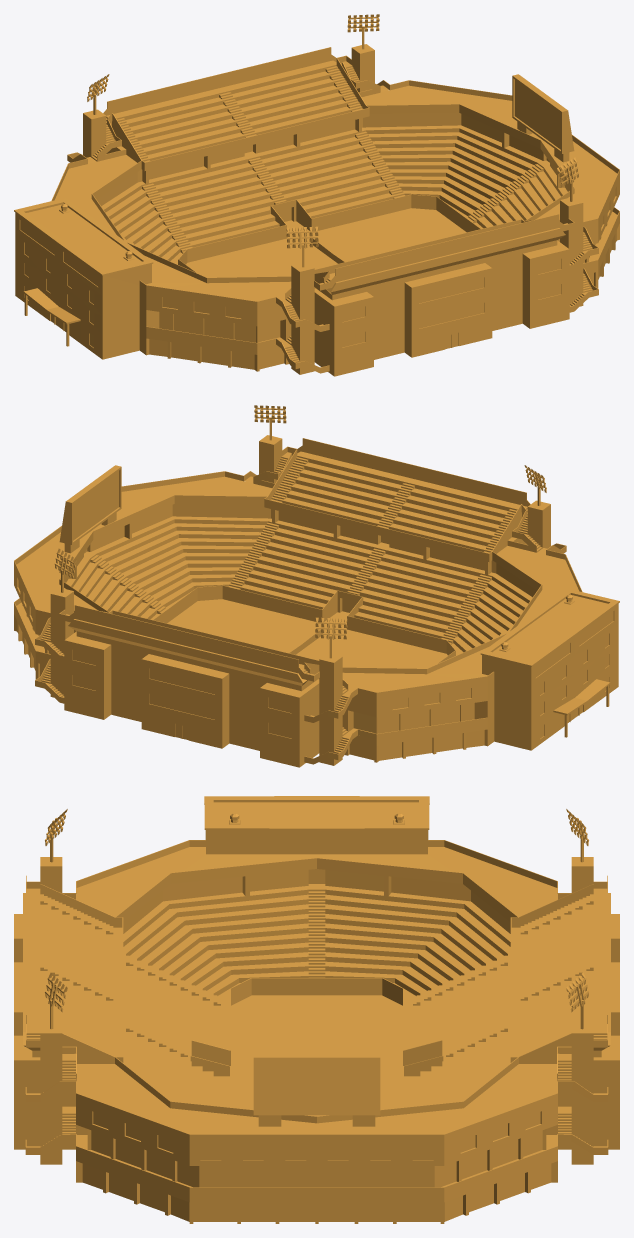
File: building-stadium.glb
The picture shows the model from 3 angles, top to bottom: view 1: azimuth 30°, elevation 25°; view 2: azimuth 150°, elevation 25°; view 3: azimuth 270°, elevation 25°; orthographic projection. The views are drawn at different scales.
Parts seen in each view (by area): view 1: building-stadium; view 2: building-stadium; view 3: building-stadium.
Boxes of the visible parts, x1,y1,x2,y2 form: building-stadium: (14,14,619,376); building-stadium: (14,405,619,767); building-stadium: (14,796,619,1223).
Size of the model in its own units: 84.77 by 21.59 by 66.49.
